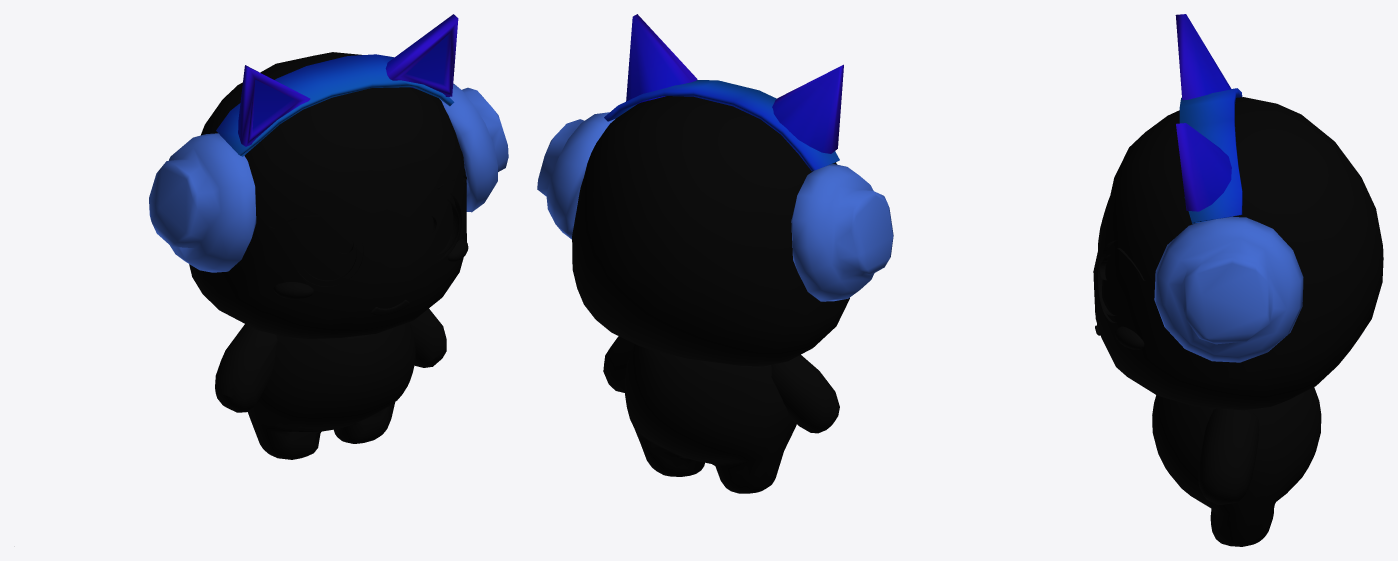
Rendered from sungoo_2.fbx.
3 renders of one model, left to right at view 1: azimuth 30°, elevation 25°; view 2: azimuth 150°, elevation 25°; view 3: azimuth 270°, elevation 25°, orthographic. The views are drawn at different scales.
Visible parts, largest first — view 1: sungoo_02; view 2: sungoo_02; view 3: sungoo_02.
Part boxes in pixels (x1=…): sungoo_02: x1=149, y1=14, x2=508, y2=459; sungoo_02: x1=537, y1=14, x2=893, y2=493; sungoo_02: x1=1093, y1=14, x2=1383, y2=546.
Size of the model in its own units: 0.3829 by 0.3133 by 0.1801.
